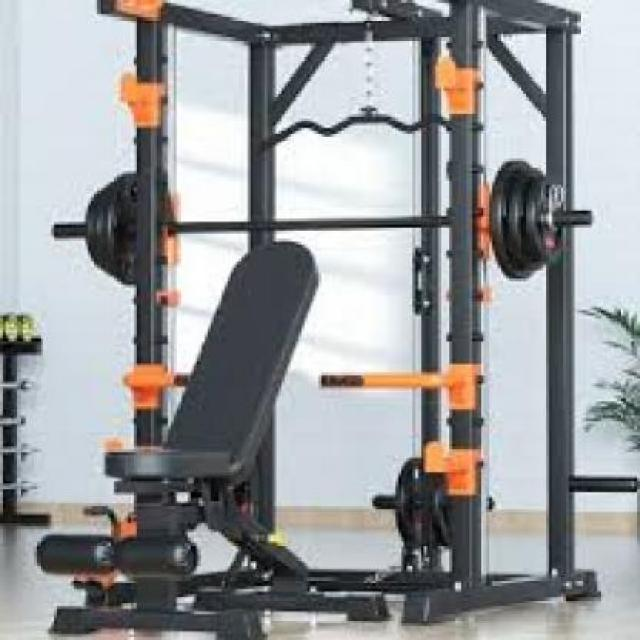smith machine: (51, 0, 600, 640)
